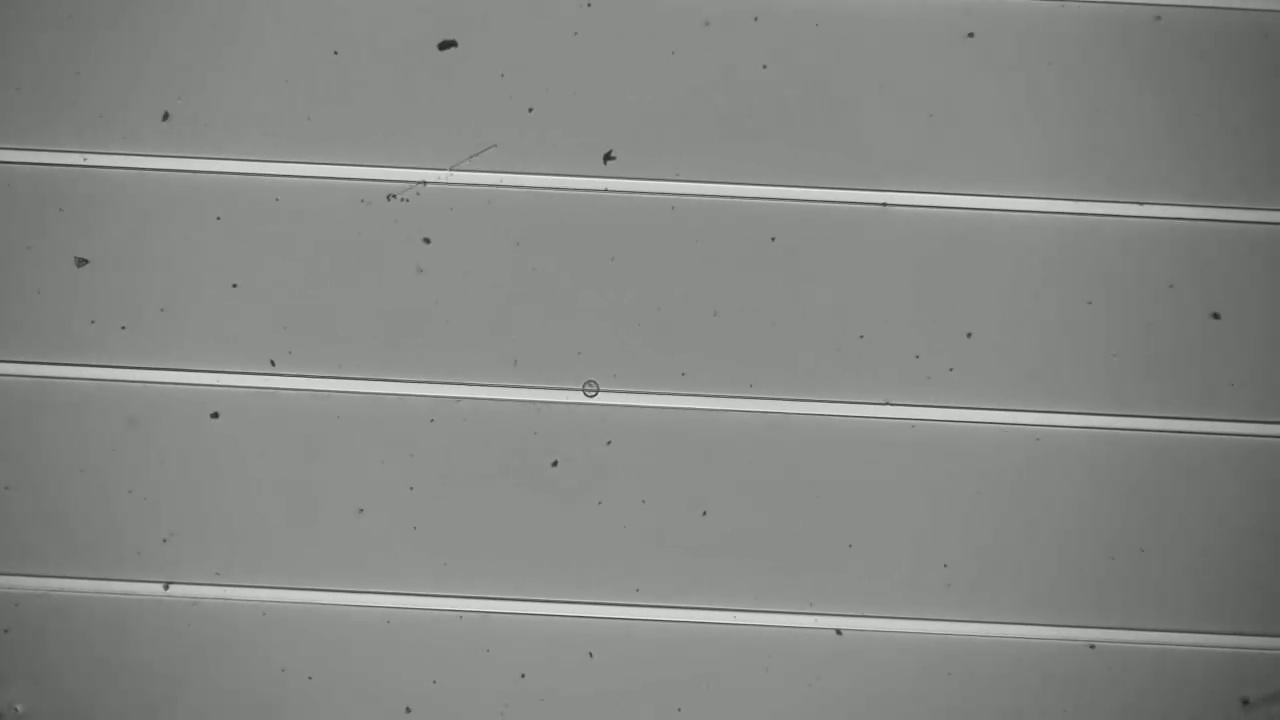stains_enbedded: (575, 373, 606, 410)
